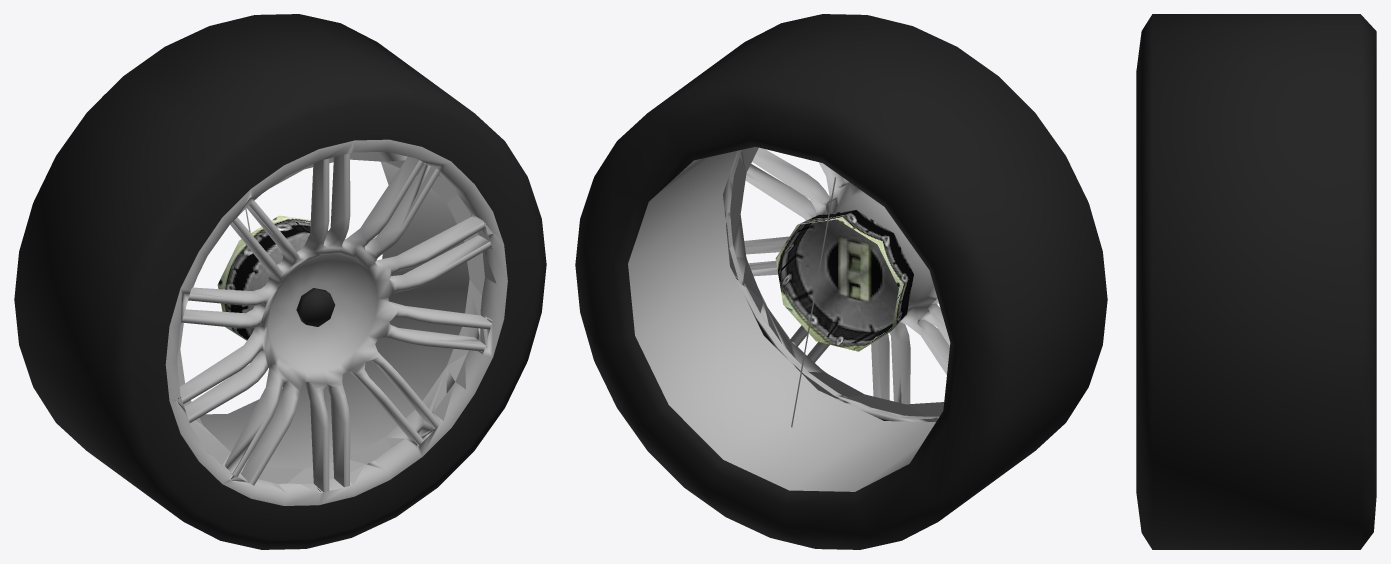
The model's file is BMW_Wheel.obj.
3 views of the same model, side by side, from view 1: azimuth 30°, elevation 25°; view 2: azimuth 150°, elevation 25°; view 3: azimuth 270°, elevation 25° (orthographic). The views are drawn at different scales.
Parts seen in each view (by area): view 1: Wheel; view 2: Wheel; view 3: Wheel.
Boxes of the visible parts, x1,y1,x2,y2 form: Wheel: [14, 14, 546, 549]; Wheel: [575, 14, 1107, 549]; Wheel: [1136, 14, 1376, 549].
Bounding box in the file's own units: 1.4 × 1.39 × 0.6221.
